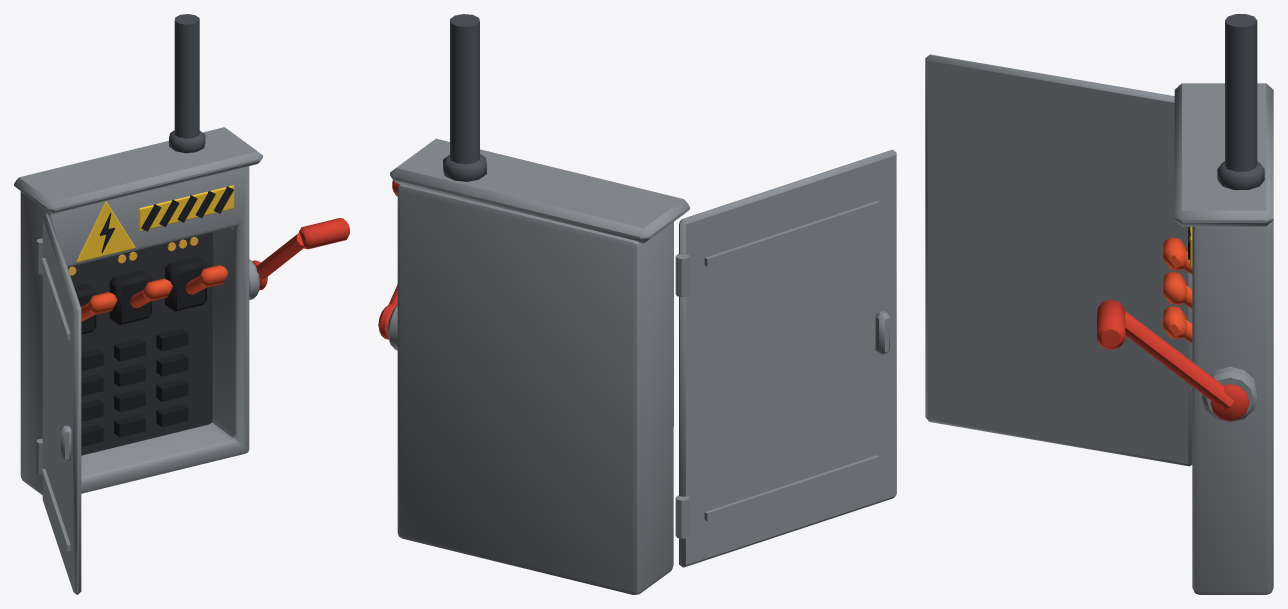
File: Kitchen_BreakerBox.fbx
The picture shows the model from 3 angles, left to right: view 1: azimuth 30°, elevation 25°; view 2: azimuth 150°, elevation 25°; view 3: azimuth 270°, elevation 25°; orthographic projection. The views are drawn at different scales.
Visible parts, largest first — view 1: Body, Panel, Door, Breakers, Conduit, Sticker, Lever, StickerInk, Switch3, Switch2, Switch1; view 2: Body, Door, Conduit; view 3: Door, Body, Conduit, Lever, Switch2, Switch3, Switch1.
Part boxes in pixels (box(x1,y1,x2,y2)): Body: box(14, 127, 262, 494); Panel: box(67, 232, 212, 455); Door: box(36, 213, 81, 594); Breakers: box(74, 256, 206, 446); Conduit: box(169, 14, 205, 153); Sticker: box(76, 185, 234, 262); Lever: box(252, 218, 349, 290); StickerInk: box(99, 186, 233, 252); Switch3: box(185, 265, 228, 294); Switch2: box(130, 278, 172, 308); Switch1: box(81, 292, 117, 321); Body: box(387, 138, 689, 594); Door: box(675, 149, 896, 567); Conduit: box(443, 14, 486, 181); Door: box(925, 54, 1192, 466); Body: box(1174, 83, 1273, 594); Conduit: box(1217, 14, 1264, 189); Lever: box(1097, 299, 1249, 421); Switch2: box(1162, 271, 1192, 308); Switch3: box(1162, 306, 1192, 342); Switch1: box(1162, 237, 1192, 274).
Size of the model in its own units: 344 by 410 by 236.
